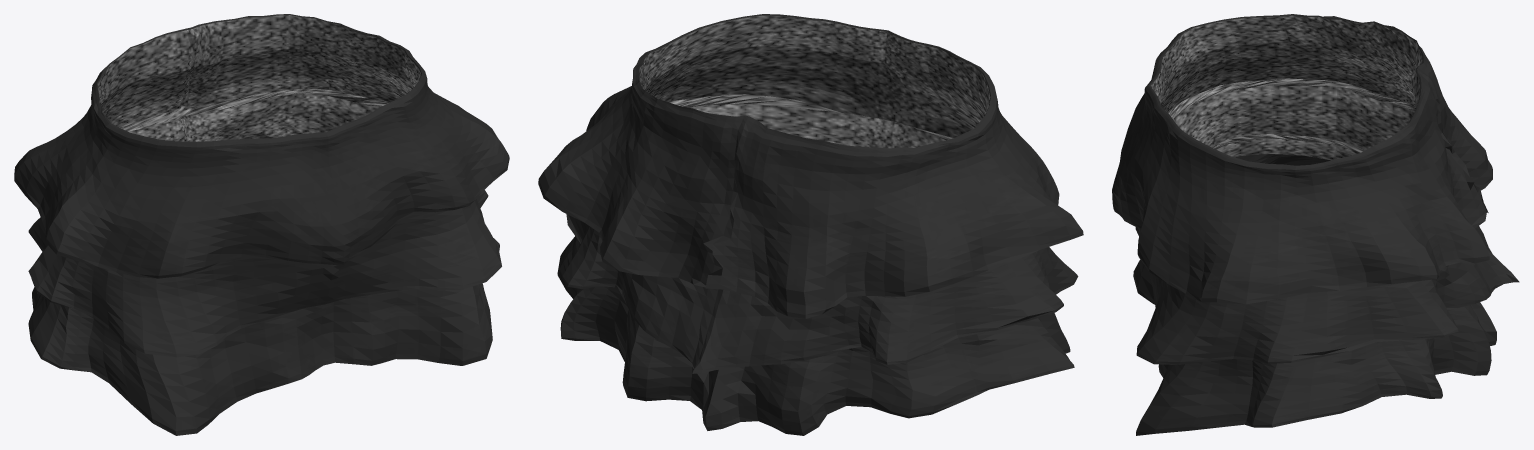
Rendered from mhw_toigo_tiered_mini_skirt.glb.
3 renders of one model, left to right at view 1: azimuth 30°, elevation 25°; view 2: azimuth 150°, elevation 25°; view 3: azimuth 270°, elevation 25°, orthographic. The views are drawn at different scales.
Visible parts, largest first — view 1: mhw_toigo_tiered_mini_skirt; view 2: mhw_toigo_tiered_mini_skirt; view 3: mhw_toigo_tiered_mini_skirt.
Part boxes in pixels (x1,y1,x2,y2): mhw_toigo_tiered_mini_skirt: [14, 14, 509, 435]; mhw_toigo_tiered_mini_skirt: [538, 14, 1083, 435]; mhw_toigo_tiered_mini_skirt: [1112, 14, 1519, 435].
Size of the model in its own units: 0.5136 by 0.2978 by 0.375.
Materials: 1 (1 with a texture image).
